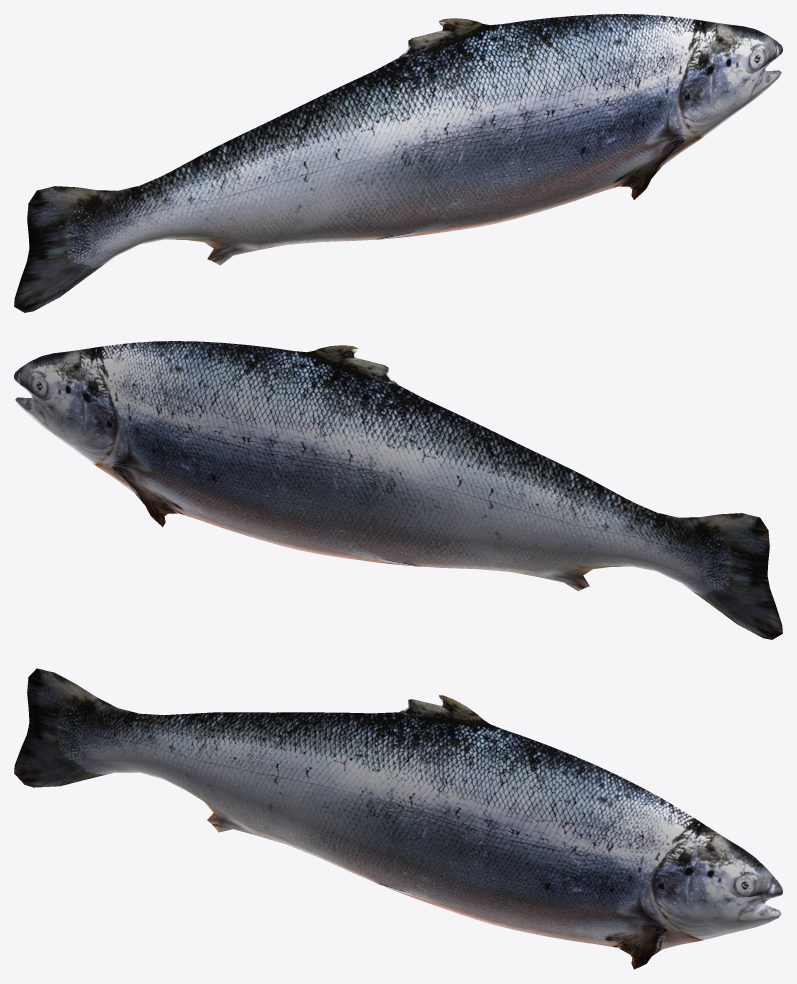
The model's file is Fish.fbx.
The picture shows the model from 3 angles, top to bottom: view 1: azimuth 30°, elevation 25°; view 2: azimuth 150°, elevation 25°; view 3: azimuth 330°, elevation 25°; orthographic projection.
Visible parts, largest first — view 1: Plane; view 2: Plane; view 3: Plane.
Part boxes in pixels (<box>): Plane: <box>14,14,782,312</box>; Plane: <box>14,341,782,639</box>; Plane: <box>14,668,782,969</box>.
Bounding box in the file's own units: 495 × 140 × 41.49.
